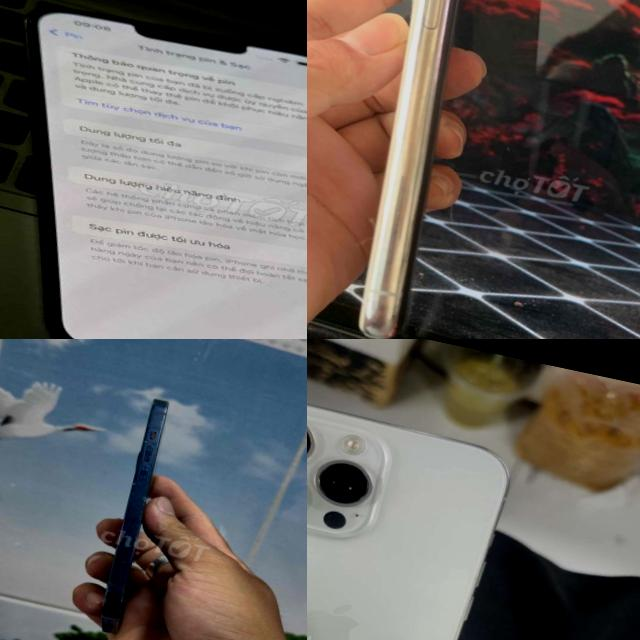scratch: (307, 404, 387, 543), (110, 412, 170, 580), (422, 0, 488, 88)
